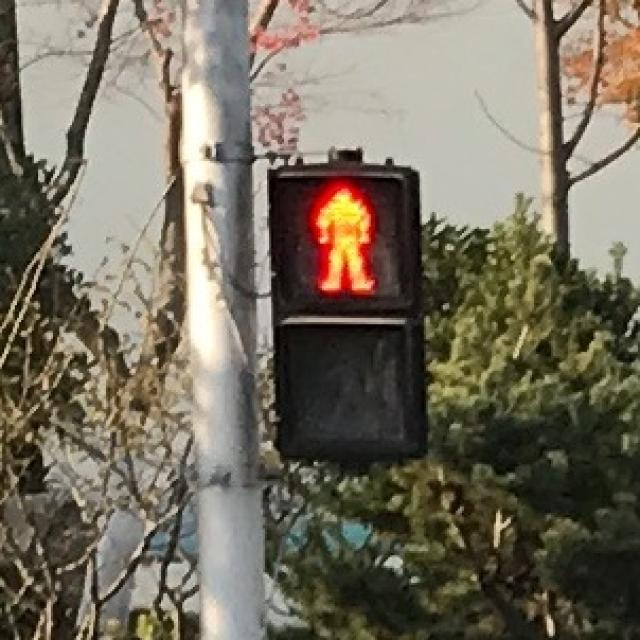red_light: (276, 168, 409, 312)
